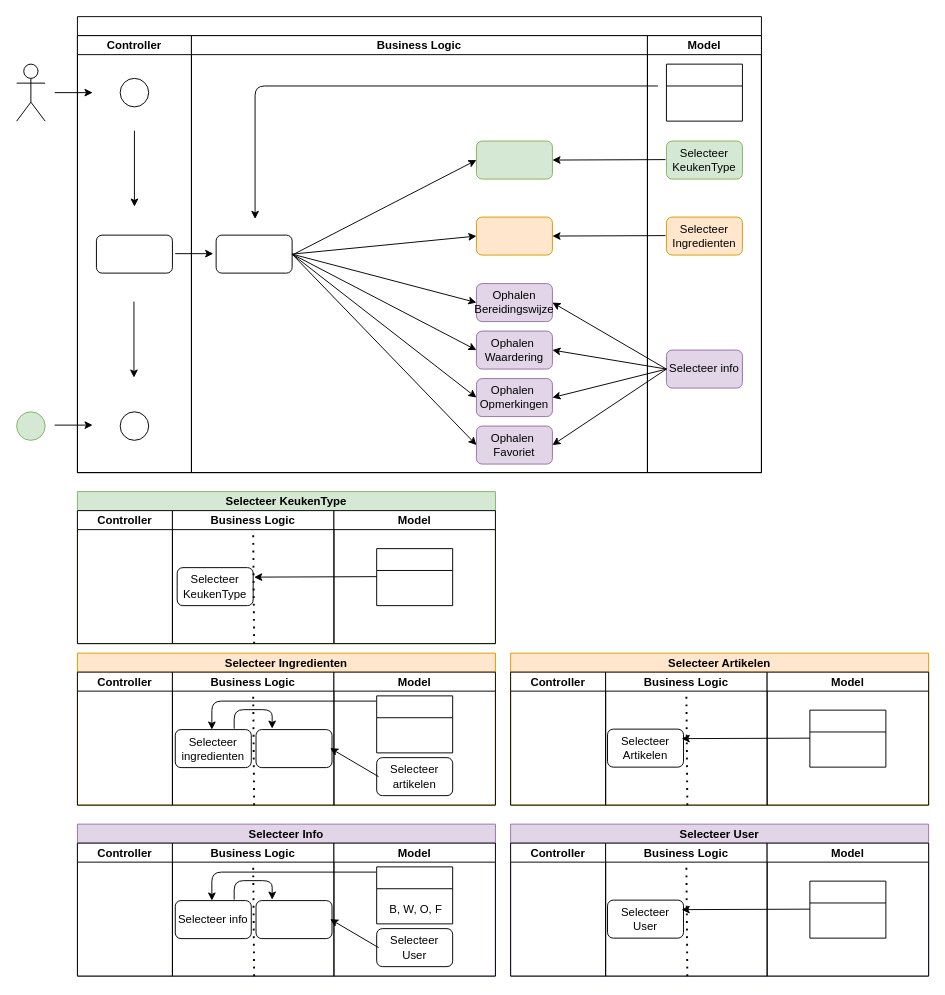
Some shapes in this 945 by 995 pixel diagram are drawn without their labels. The shapes that lost their labels are listed below. From the top down, each one's box as (x1, y1, x2, y2) in pixels, then its label:
(16, 63, 45, 121): Actor
(665, 63, 742, 121): Gerecht
(475, 140, 552, 179): Ophalen KeukenType
(95, 234, 172, 273): Recept
(215, 234, 292, 273): Selecteer recept
(76, 16, 761, 473): Pool
(475, 216, 552, 255): Ophalen ingredienten
(376, 548, 453, 606): KeukenType
(376, 695, 453, 753): Ingredienten
(809, 709, 886, 767): Artikelen
(255, 729, 332, 768): Ophalen artikelen
(376, 866, 453, 924): Gerecht_Info
(809, 880, 886, 938): User
(255, 900, 332, 939): Ophalen User
